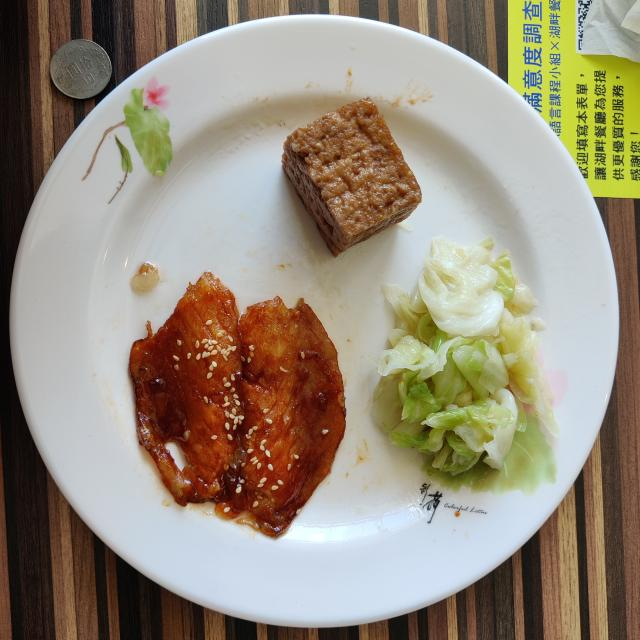Kabayaki sea bream fillet: (130, 272, 345, 536)
cabbage: (375, 238, 558, 475)
coin: (50, 39, 111, 99)
egg tofu: (282, 98, 421, 256)
